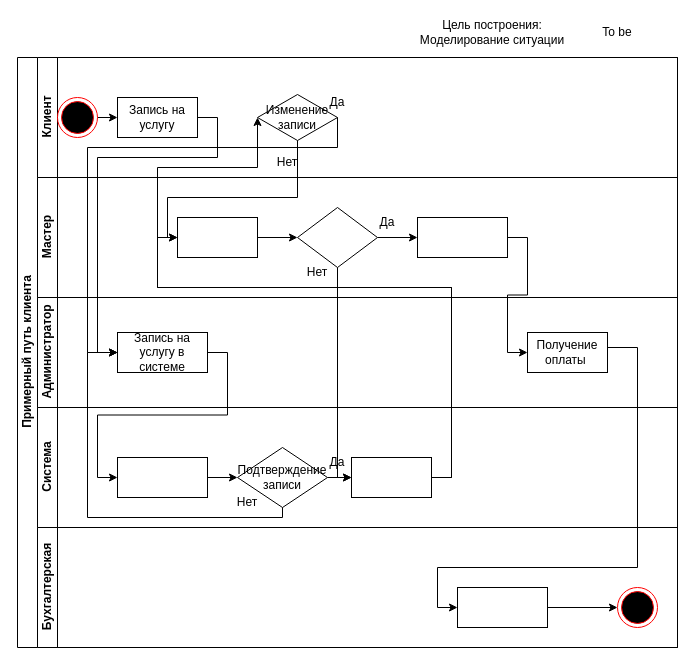
This 695x665 diagram has some shape labels left out. The centre of each missing label's shape, as x and y in pixels:
"Исполнение услуги" belongs at point 462,237.
"Клиент пришел?" belongs at point 337,237.
"Ожидание клиента" belongs at point 217,237.
"Отправка уведомлений" belongs at point 391,477.
"Формирование записи" belongs at point 162,477.
"Формирование отчетов" belongs at point 502,607.
